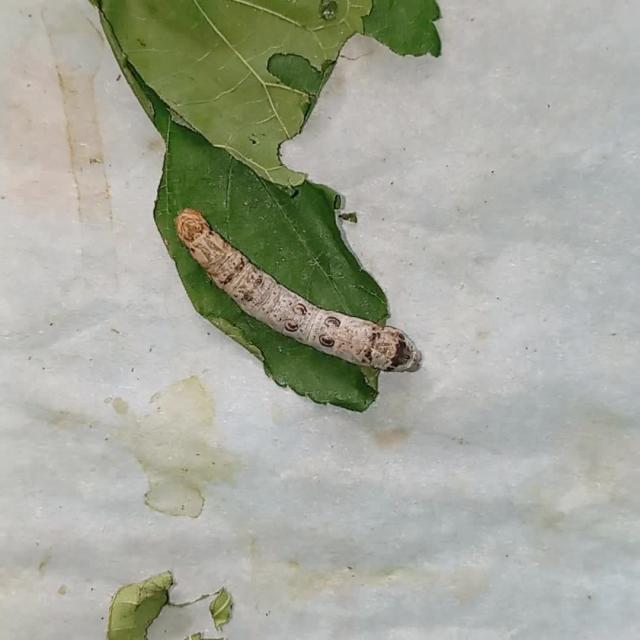Grasserie: (172, 203, 432, 385)
